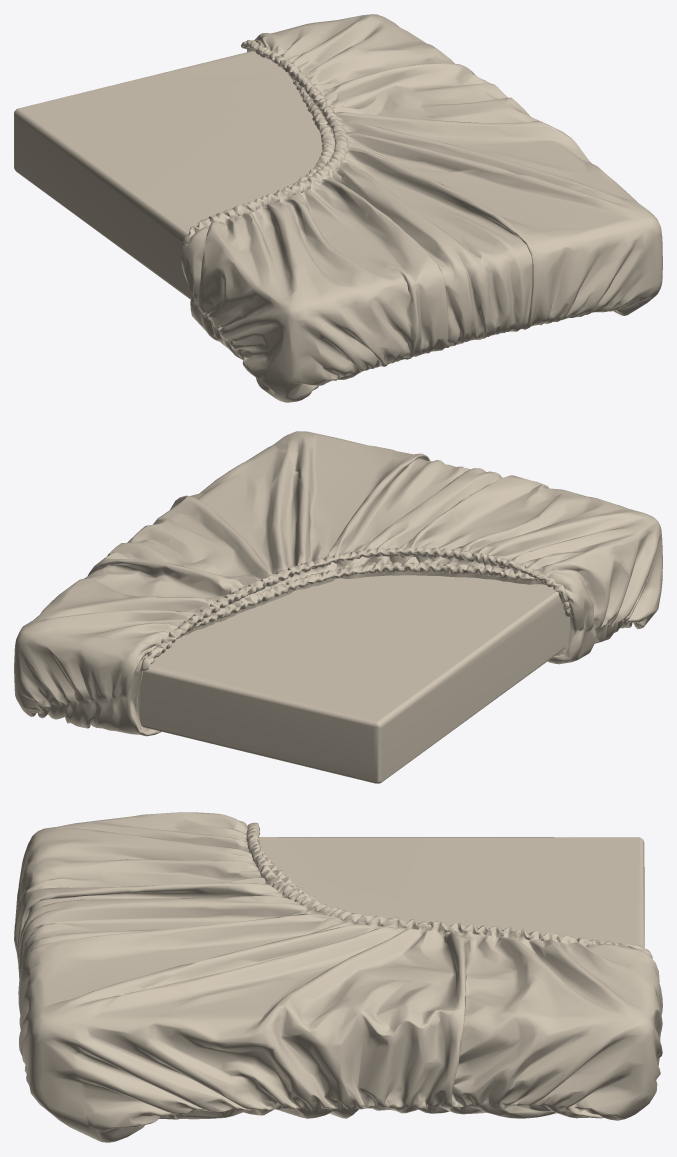
File: dvala_przescierado_z_gumka_40627759.glb
3 renders of one model, top to bottom at view 1: azimuth 30°, elevation 25°; view 2: azimuth 150°, elevation 25°; view 3: azimuth 270°, elevation 25°, orthographic. The views are drawn at different scales.
Visible parts, largest first — view 1: dvala_przescierado_z_gumka_40627759; view 2: dvala_przescierado_z_gumka_40627759; view 3: dvala_przescierado_z_gumka_40627759.
Part boxes in pixels (x1,y1,x2,y2): dvala_przescierado_z_gumka_40627759: (14, 14, 662, 402); dvala_przescierado_z_gumka_40627759: (14, 431, 662, 783); dvala_przescierado_z_gumka_40627759: (14, 812, 662, 1142).
Size of the model in its own units: 0.3406 by 0.107 by 0.4288.
Materials: 1 (1 with a texture image).
